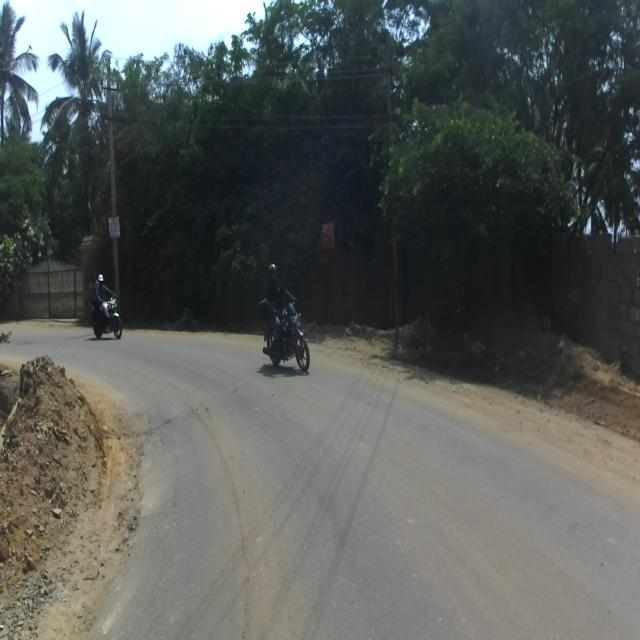motorcycle ahead at: (256, 300, 313, 381)
